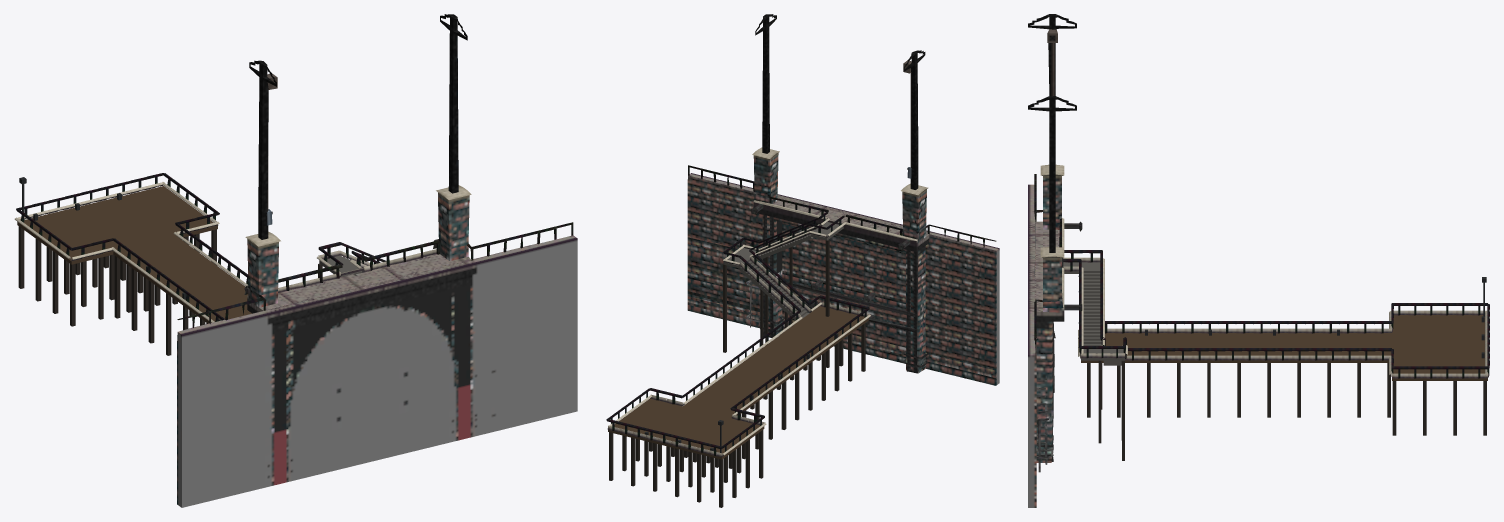
3 renders of one model, left to right at view 1: azimuth 30°, elevation 25°; view 2: azimuth 150°, elevation 25°; view 3: azimuth 270°, elevation 25°, orthographic. The views are drawn at different scales.
Parts seen in each view (by area): view 1: Wall, Pier_Deck, Pier_Post, Pier_GameRailing; view 2: Wall, Pier_Deck, Pier_Post, Pier_GameRailing, Pier_Stairs; view 3: Pier_Deck, Wall, Pier_GameRailing, Pier_Post, Pier_Stairs.
Boxes of the visible parts, <box> form: Wall: <box>177,14,577,507</box>; Pier_Deck: <box>17,186,251,323</box>; Pier_Post: <box>18,226,322,355</box>; Pier_GameRailing: <box>14,173,386,322</box>; Wall: <box>687,14,999,385</box>; Pier_Deck: <box>608,306,868,459</box>; Pier_Post: <box>609,239,865,507</box>; Pier_GameRailing: <box>606,211,870,457</box>; Pier_Stairs: <box>724,222,843,321</box>; Pier_Deck: <box>1081,315,1487,380</box>; Wall: <box>1028,14,1082,507</box>; Pier_GameRailing: <box>1063,250,1489,378</box>; Pier_Post: <box>1087,360,1486,460</box>; Pier_Stairs: <box>1063,262,1124,365</box>.
Size of what is drawn, in the model's own units: 37.8 by 37.6 by 43.29.
6 materials, 1 textured.
